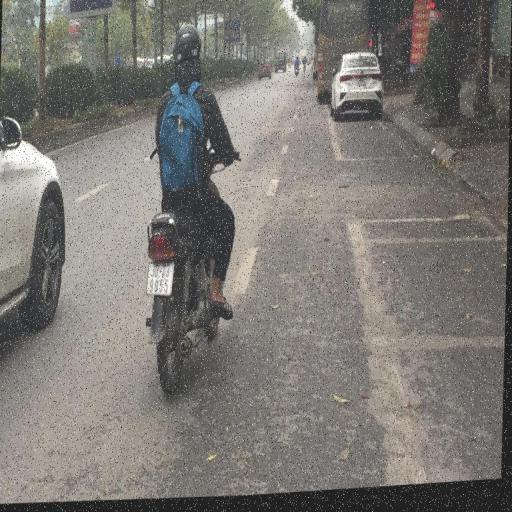bike: (142, 16, 243, 402)
numberplate: (146, 262, 175, 298), (357, 82, 367, 90)
with helmet: (172, 22, 202, 68)
